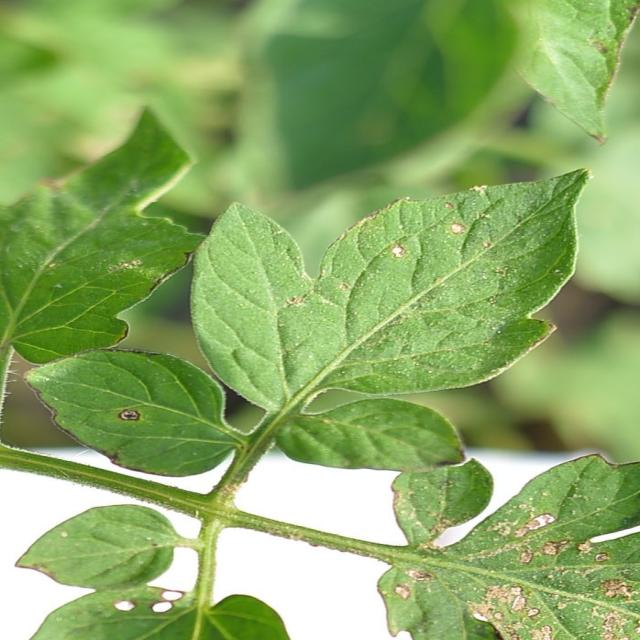infected: (389, 478, 640, 640), (330, 197, 517, 292), (95, 588, 209, 633), (90, 388, 161, 432)
